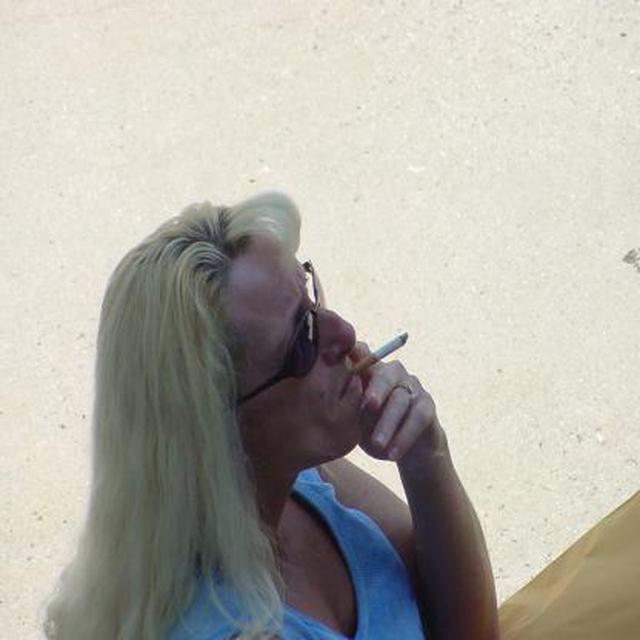smoking: (346, 332, 408, 378)
